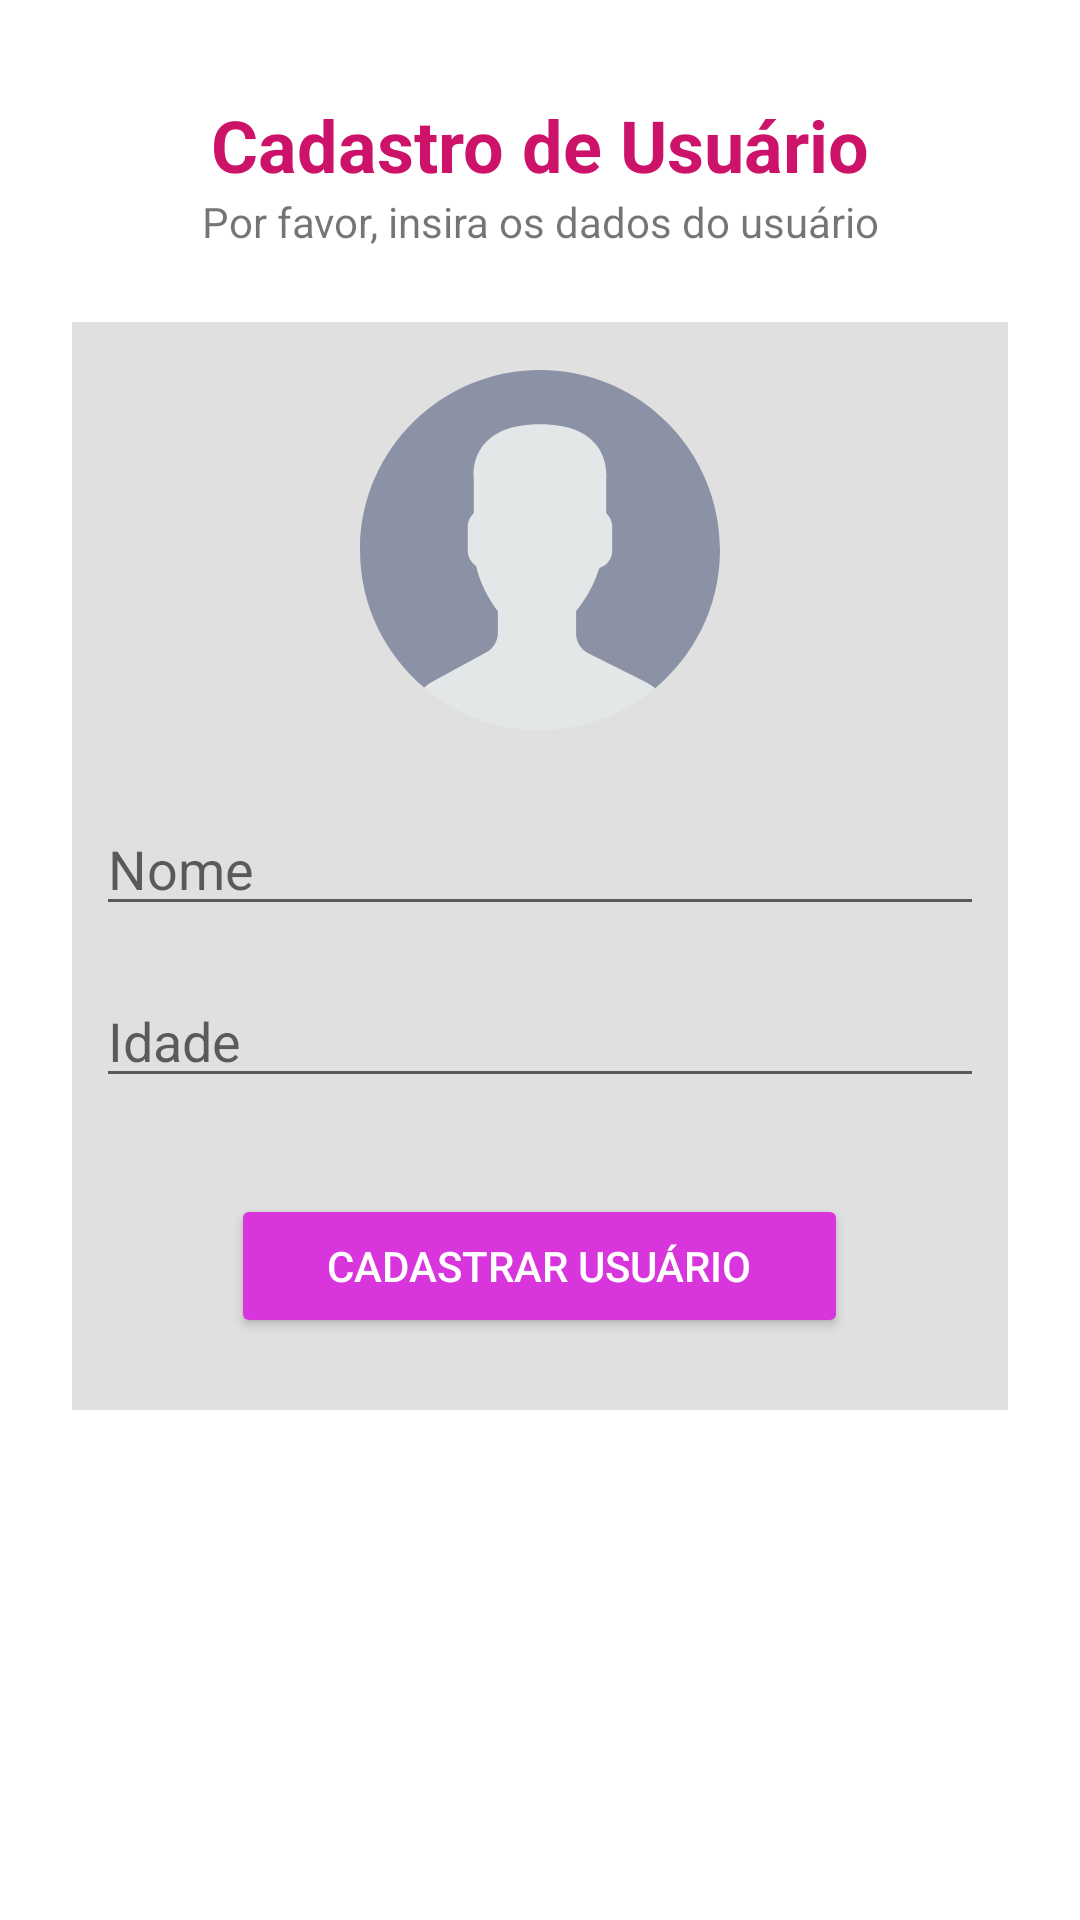

Locate icon controls on the screen. Image size 1080*1920, boxes as bbox(x1, y1, x2, y2).
user: bbox(360, 370, 720, 688)
